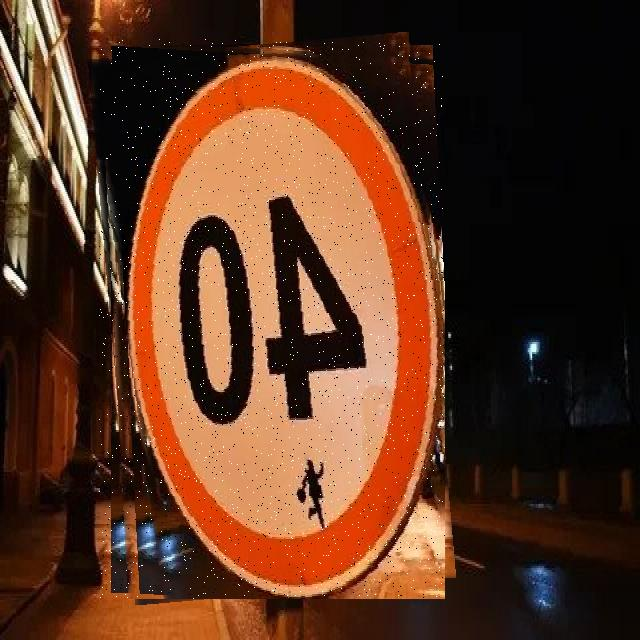speed limit 40: (99, 39, 445, 599)
